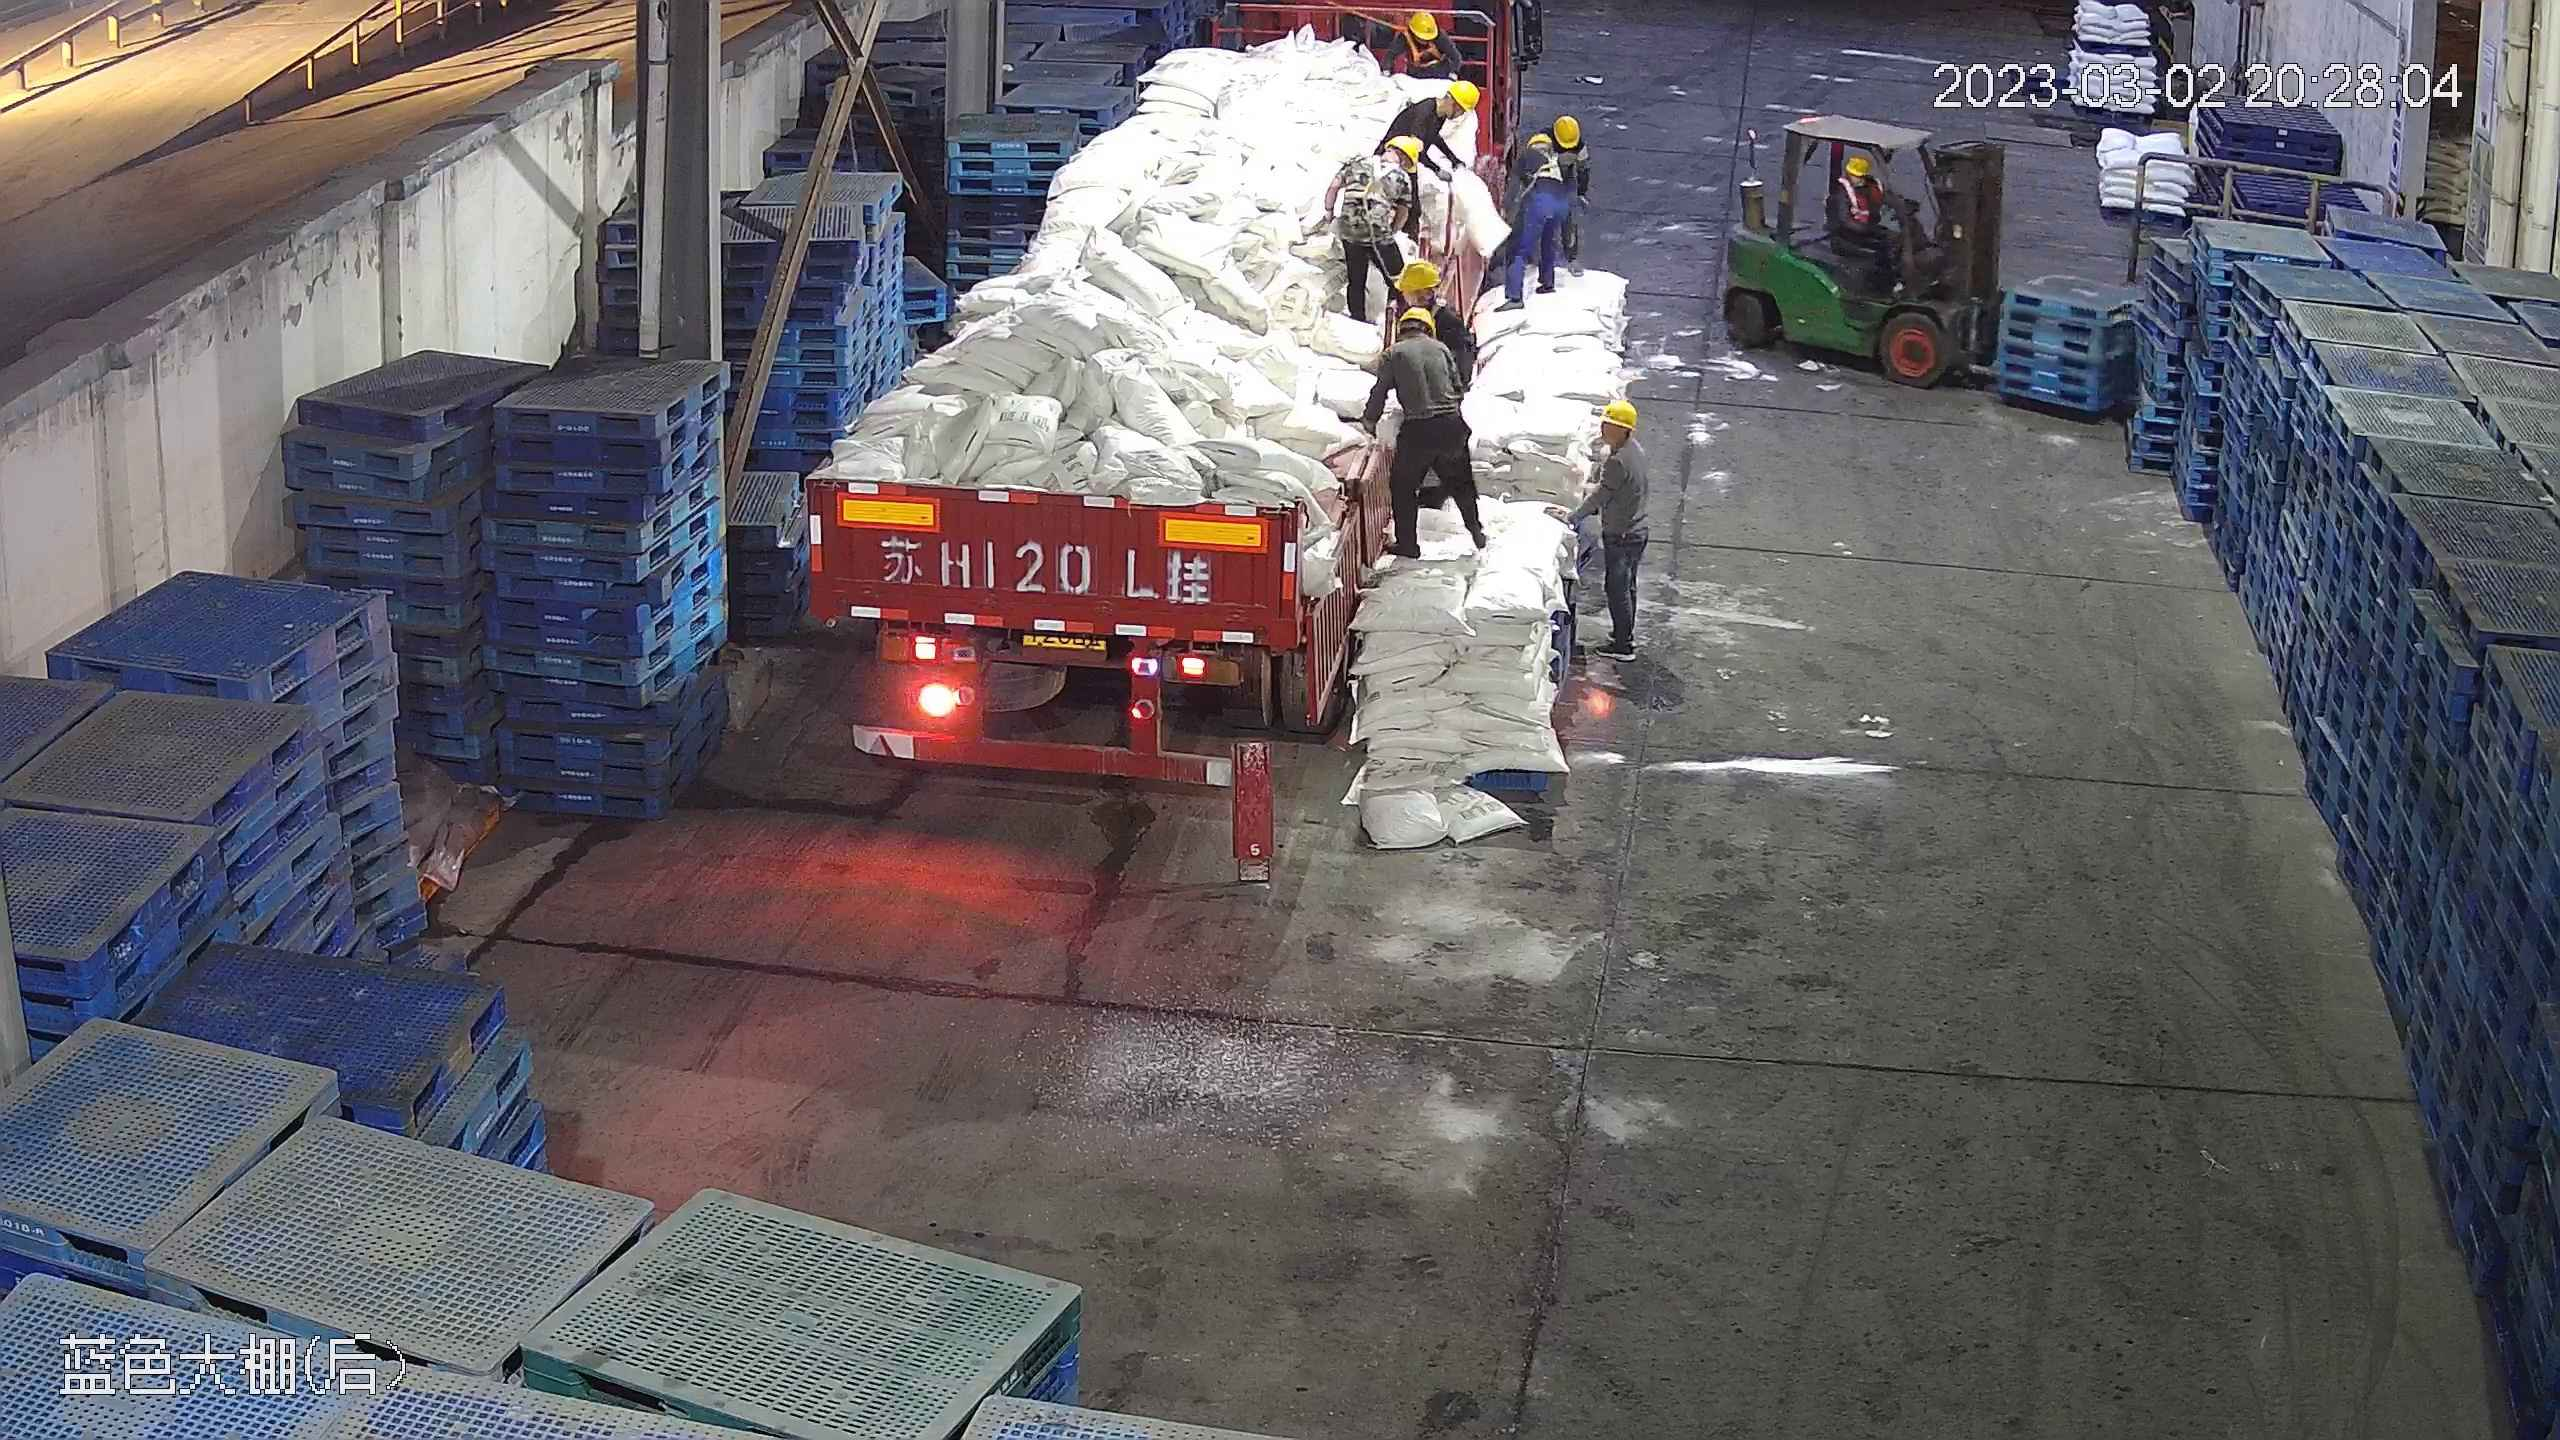belt: (1514, 131, 1570, 187), (1346, 156, 1402, 212), (1397, 36, 1441, 72)
head: (1375, 305, 1457, 384), (1586, 397, 1643, 484), (1343, 136, 1417, 198), (1403, 81, 1484, 138), (1383, 9, 1451, 67), (1838, 151, 1884, 206)
helmet: (1396, 258, 1440, 293), (1385, 133, 1419, 173), (1599, 398, 1639, 429), (1398, 307, 1439, 335), (1549, 114, 1581, 150), (1844, 151, 1877, 182), (1447, 78, 1479, 111), (1405, 10, 1439, 42), (1527, 132, 1553, 148)
people: (1362, 258, 1495, 564), (1573, 398, 1649, 662), (1328, 134, 1417, 343), (1495, 113, 1584, 309), (1398, 67, 1492, 236), (1835, 149, 1906, 274)
truck: (800, 8, 1469, 789)
